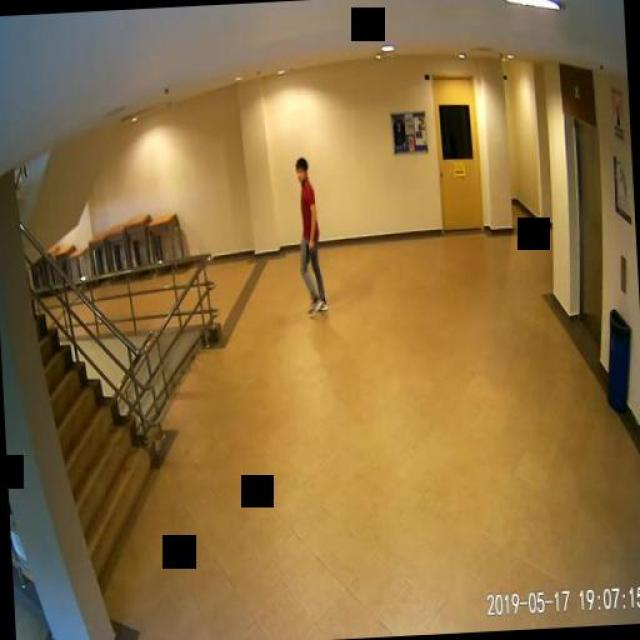gun: (304, 242, 312, 262)
